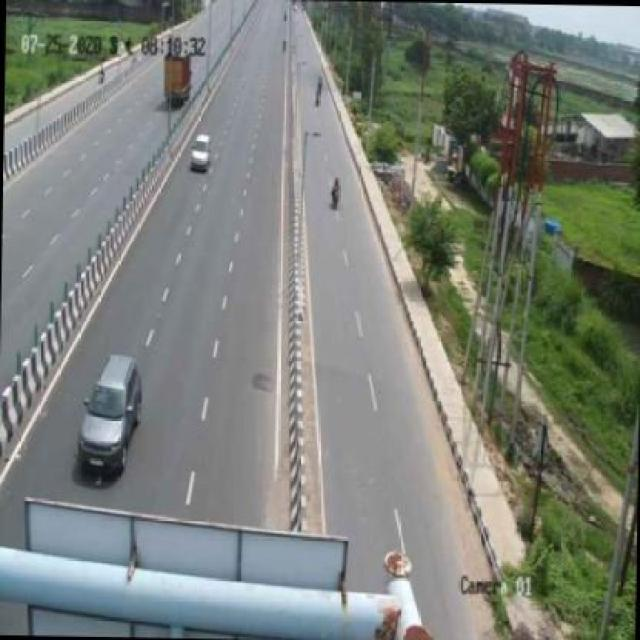car: (74, 348, 149, 483), (189, 132, 211, 172)
